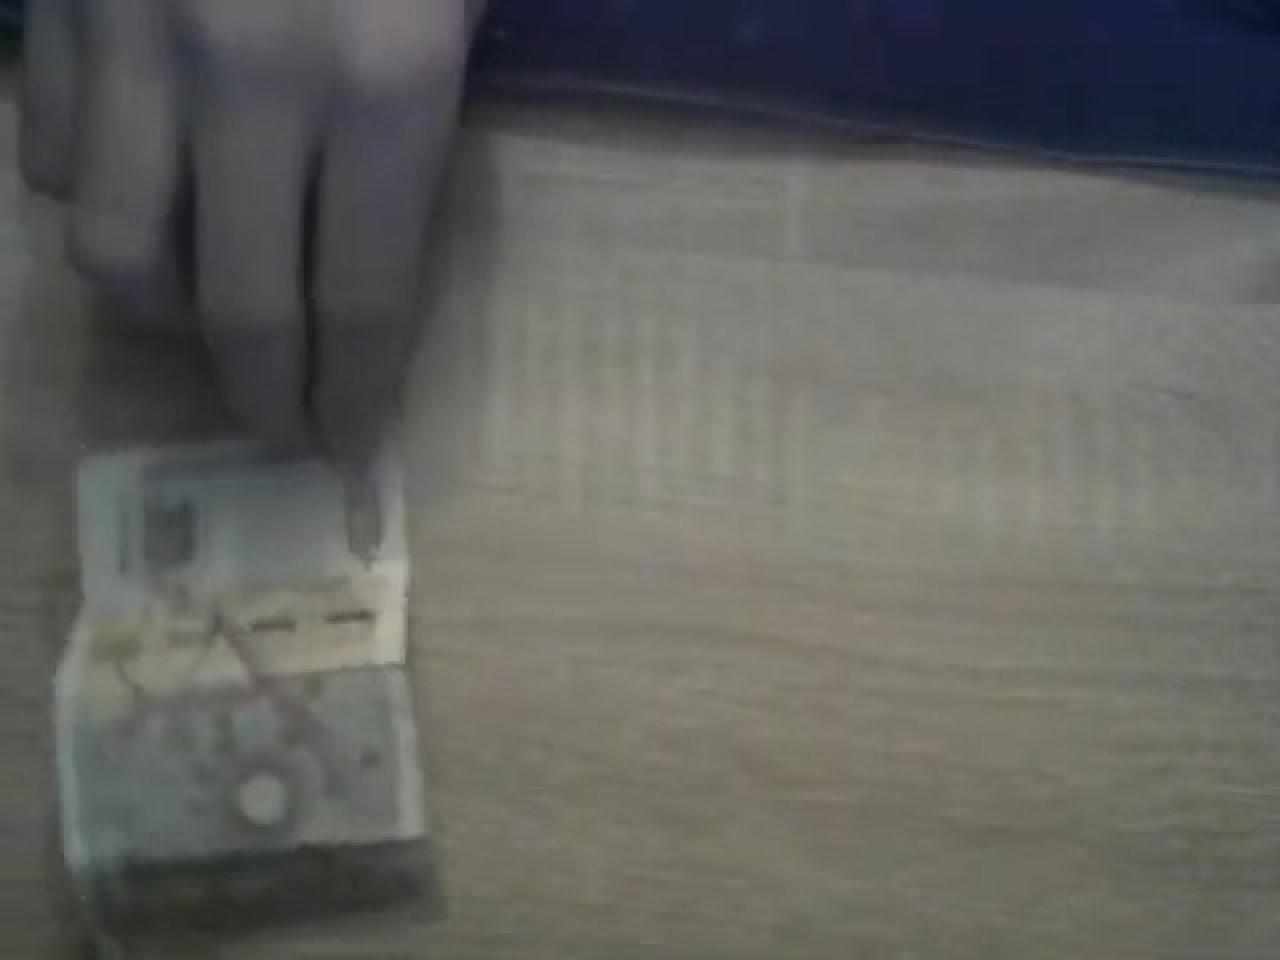10leva: (50, 443, 442, 960)
